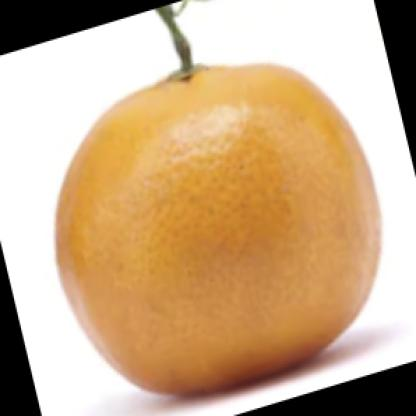fresh: (61, 61, 382, 397)
